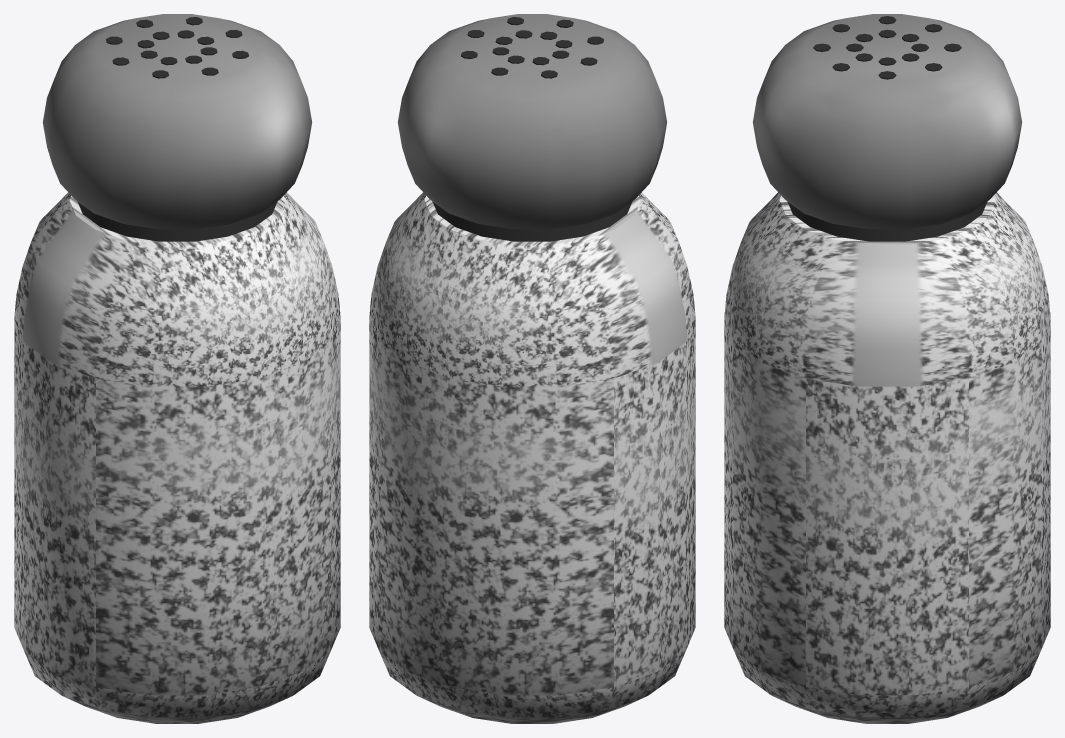
Rendered from PhoneCase_Tool_Glitter.fbx.
The picture shows the model from 3 angles, left to right: view 1: azimuth 30°, elevation 25°; view 2: azimuth 150°, elevation 25°; view 3: azimuth 270°, elevation 25°; orthographic projection.
Visible parts, largest first — view 1: Body, Lid; view 2: Body, Lid; view 3: Body, Lid.
Boxes of the visible parts, <box> form: Body: <box>14,192,340,723</box>; Lid: <box>42,14,312,241</box>; Body: <box>369,192,695,723</box>; Lid: <box>397,14,667,241</box>; Body: <box>724,192,1050,723</box>; Lid: <box>752,14,1022,241</box>.
Size of the model in its own units: 236 by 514 by 240.
